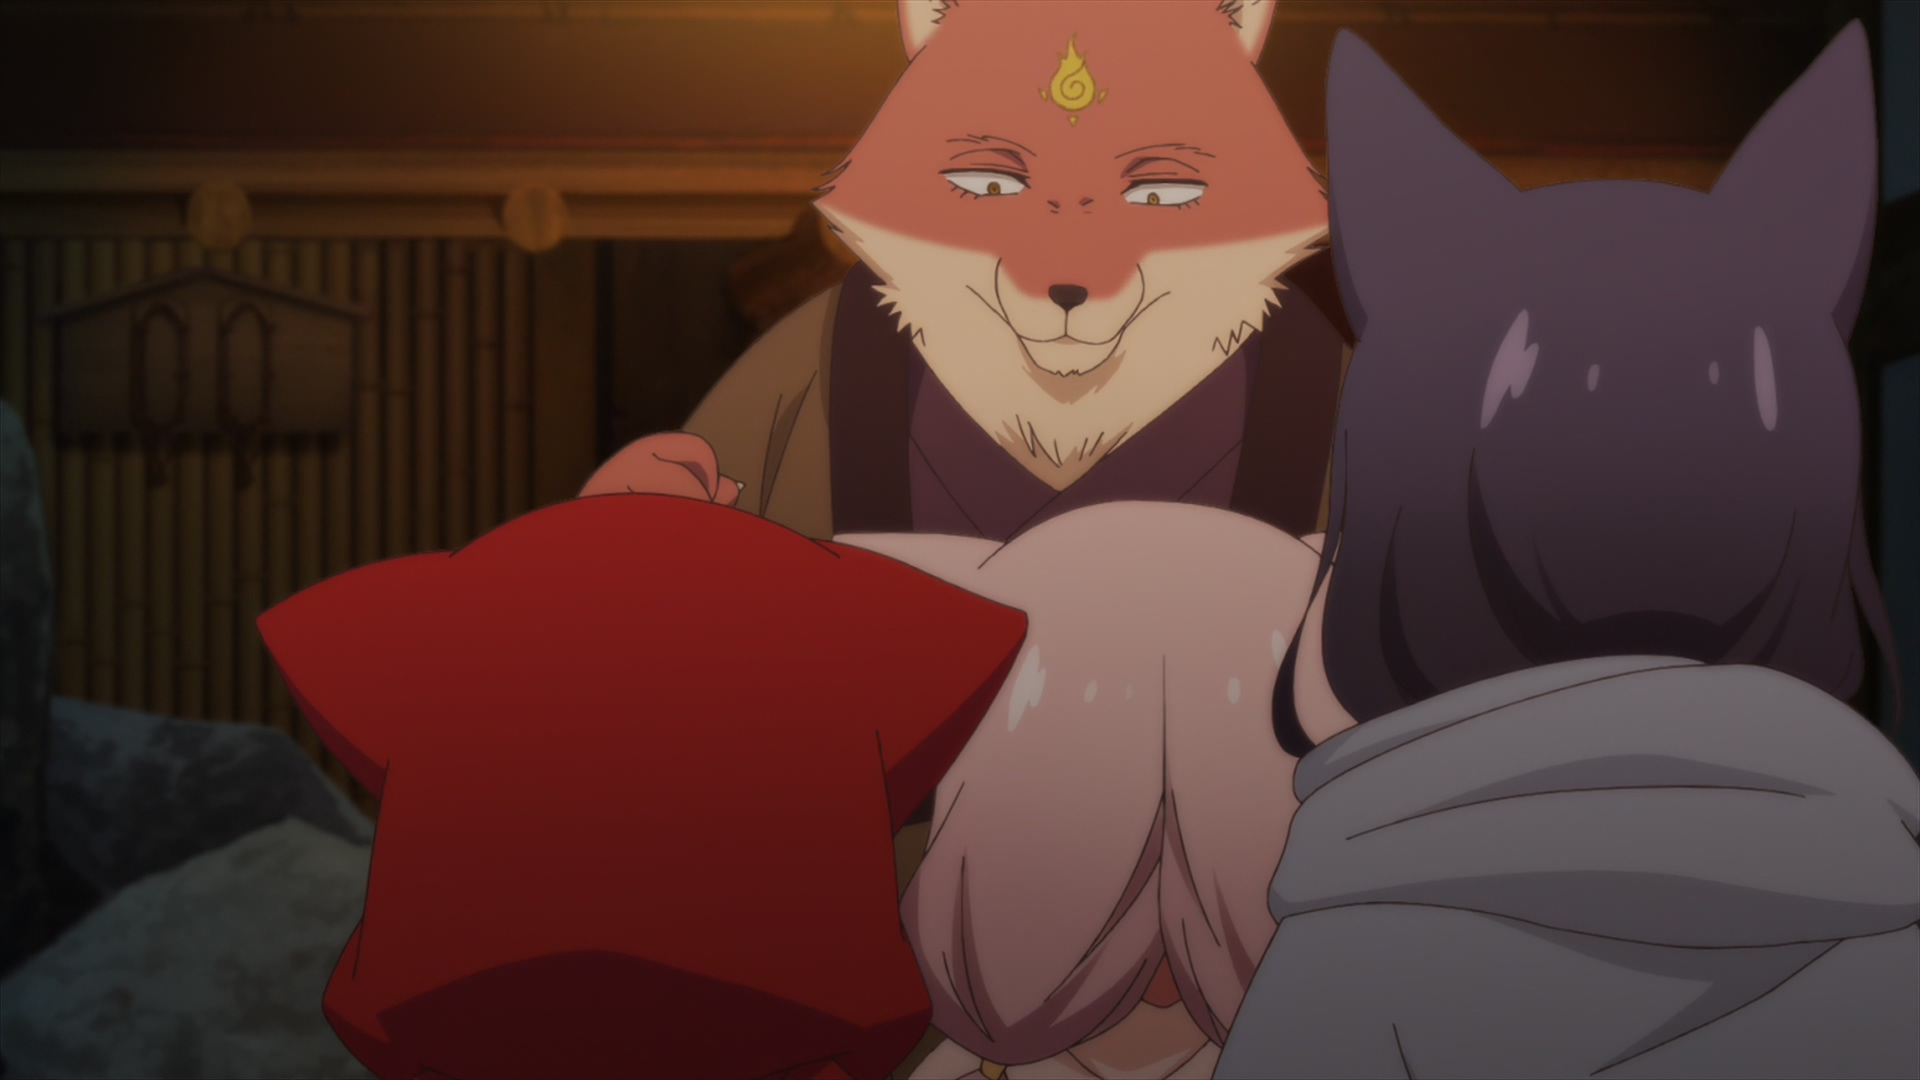柚: (257, 495, 1029, 1080)
椿: (576, 1, 1360, 537)
皋: (1211, 20, 1920, 1080)
莲: (831, 497, 1357, 1080)
